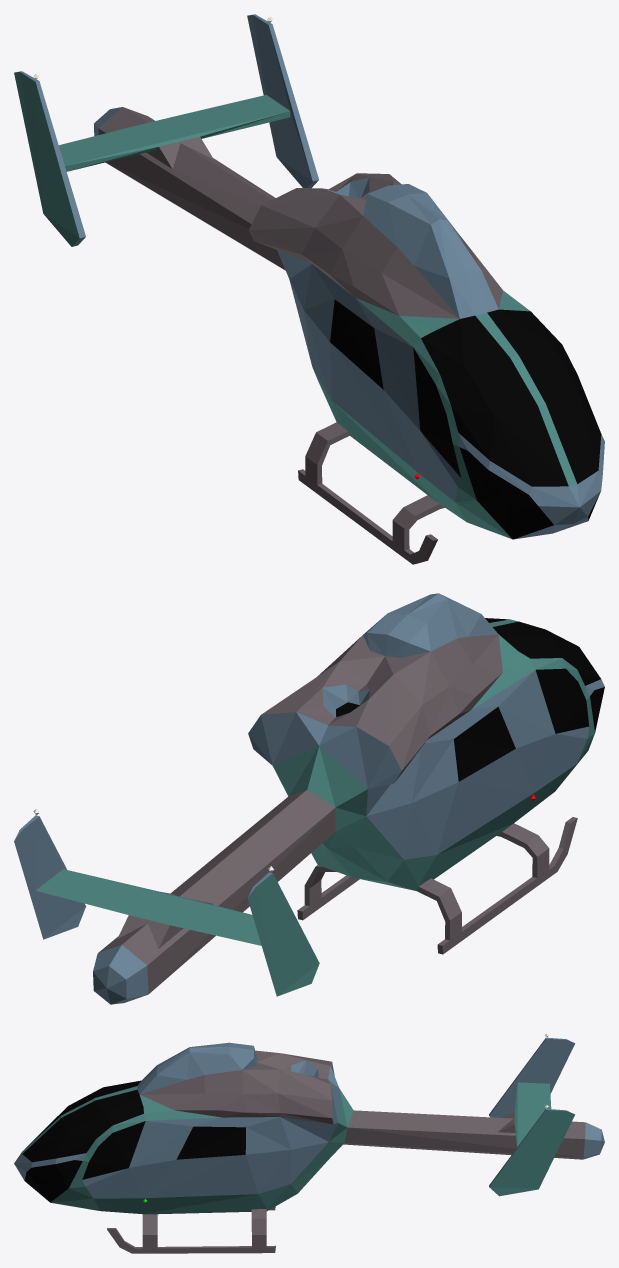
The model's file is MDEXPLRR.glb.
The picture shows the model from 3 angles, top to bottom: view 1: azimuth 30°, elevation 25°; view 2: azimuth 150°, elevation 25°; view 3: azimuth 270°, elevation 25°; orthographic projection. The views are drawn at different scales.
Parts seen in each view (by area): view 1: MDEXPLRR | archived geometry; view 2: MDEXPLRR | archived geometry; view 3: MDEXPLRR | archived geometry.
Part boxes in pixels (<box>): MDEXPLRR | archived geometry: <box>14,14,604,564</box>; MDEXPLRR | archived geometry: <box>14,593,604,1004</box>; MDEXPLRR | archived geometry: <box>14,1037,604,1253</box>.
Bounding box in the file's own units: 2.47 × 2.9 × 8.39.
